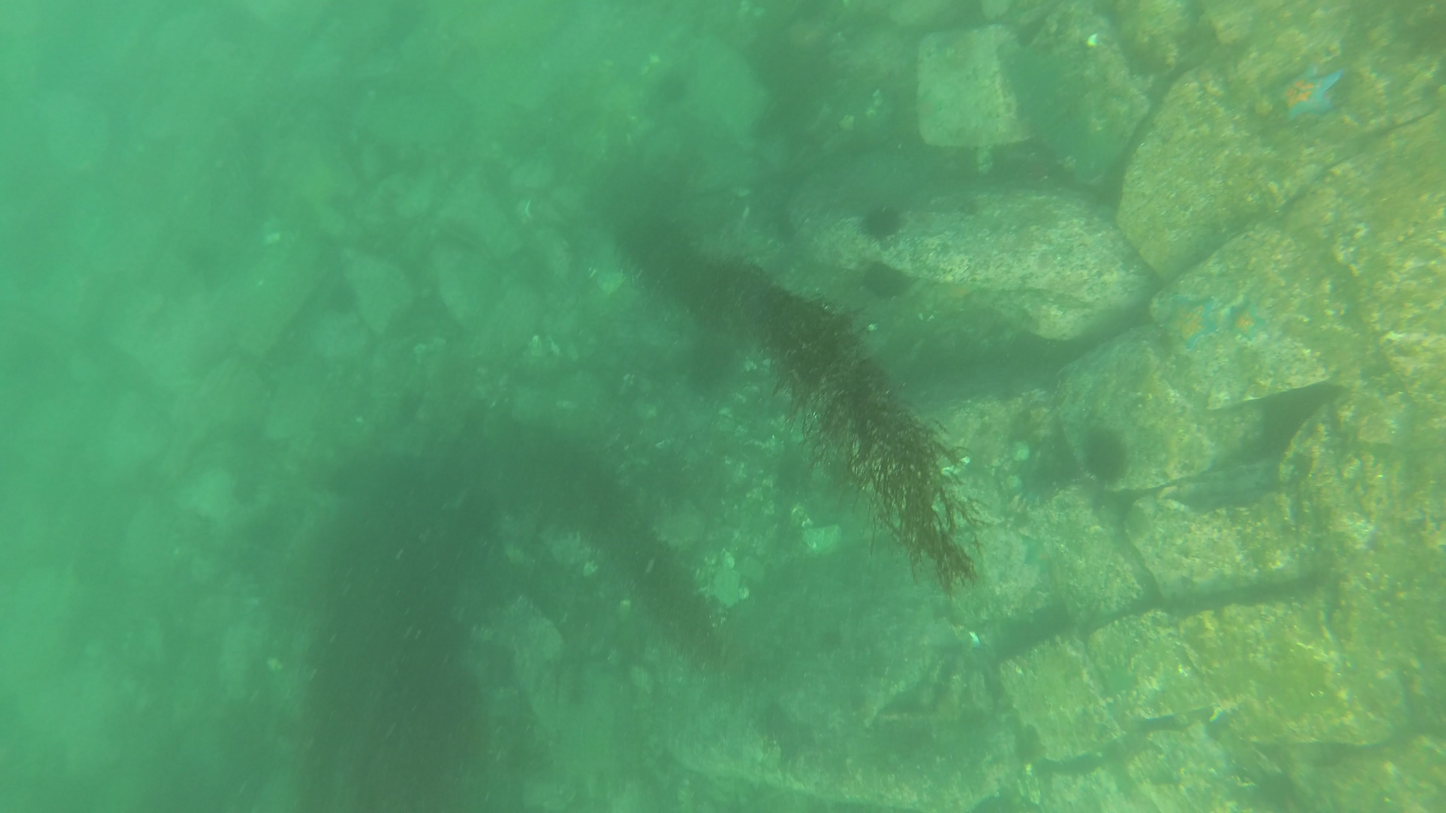holothurian: (1272, 65, 1345, 120), (1159, 292, 1216, 348), (1222, 298, 1264, 344)
starfish: (1018, 436, 1077, 497), (1079, 426, 1133, 483), (859, 259, 911, 302), (856, 204, 905, 241)
